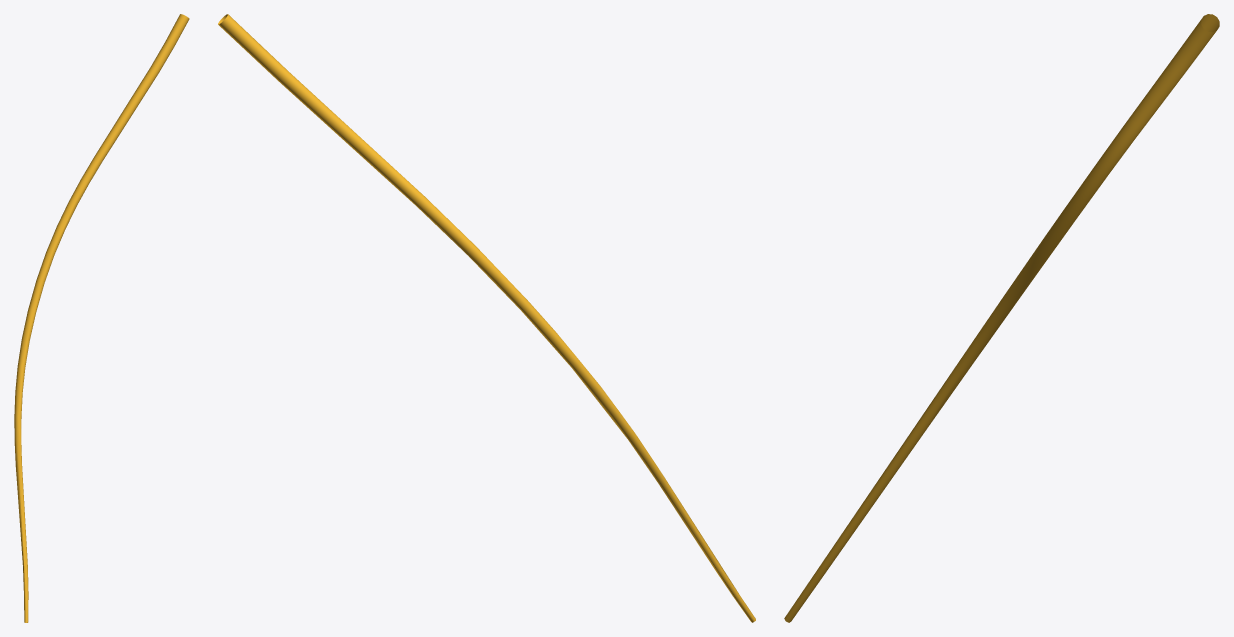
The model's file is nervoso-inferior-lateral-brachial-cutaneous-nerve-r.glb.
3 renders of one model, left to right at view 1: azimuth 30°, elevation 25°; view 2: azimuth 150°, elevation 25°; view 3: azimuth 270°, elevation 25°, orthographic. The views are drawn at different scales.
Parts seen in each view (by area): view 1: Inferior lateral brachial cutaneous nerve.r; view 2: Inferior lateral brachial cutaneous nerve.r; view 3: Inferior lateral brachial cutaneous nerve.r.
Boxes of the visible parts, <box> form: Inferior lateral brachial cutaneous nerve.r: <box>14,14,189,622</box>; Inferior lateral brachial cutaneous nerve.r: <box>218,14,755,622</box>; Inferior lateral brachial cutaneous nerve.r: <box>784,14,1219,622</box>.
Size of the model in its own units: 0.0301 by 0.0475 by 0.022.
